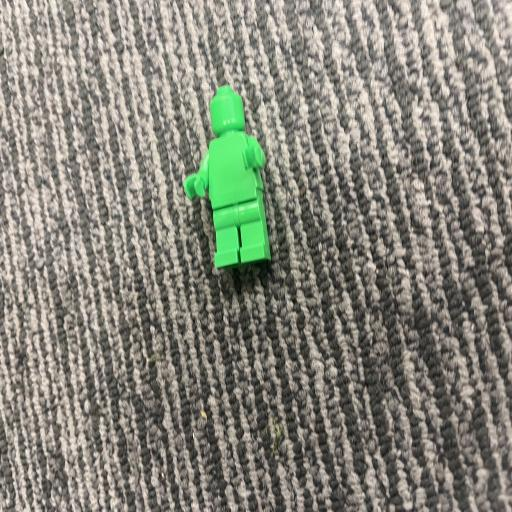Lego-Minifig: (184, 85, 271, 268)
